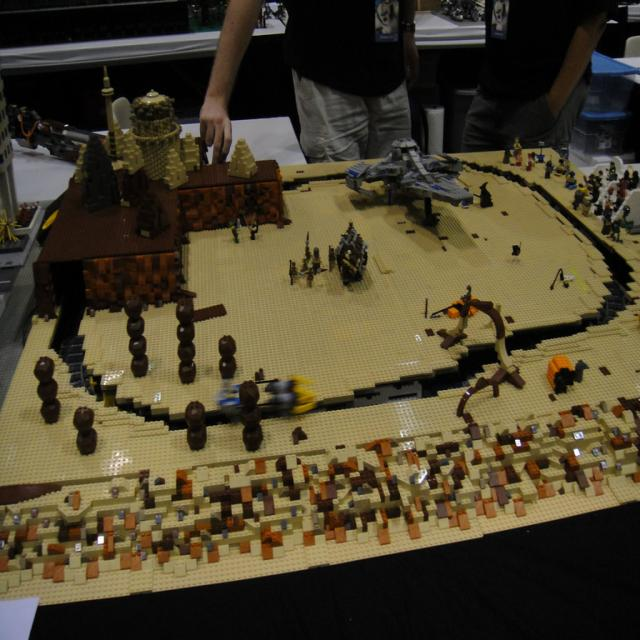Toy: (0, 66, 640, 593)
